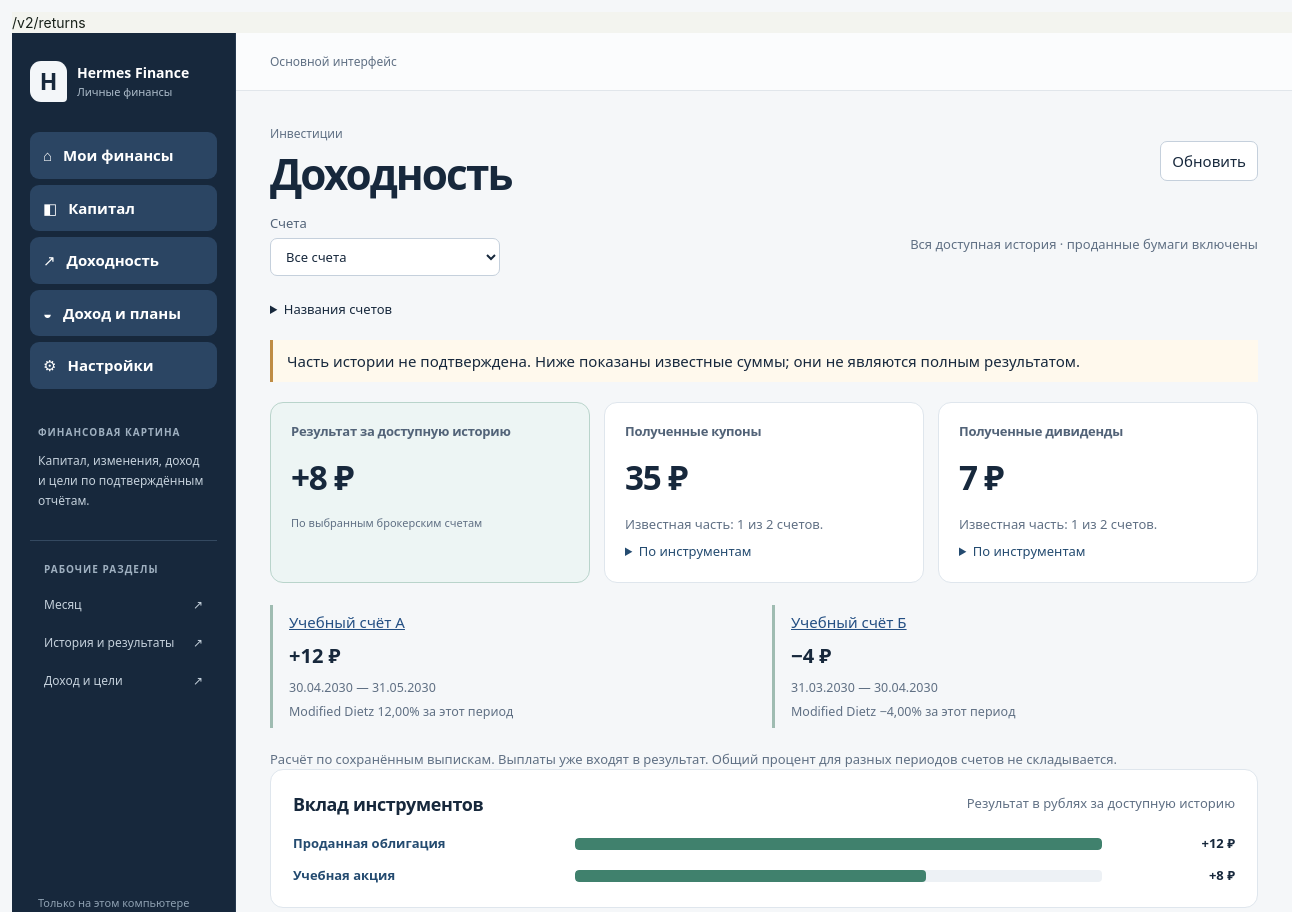
it: paid income loads on disclosure, filters selected accounts and retains repeated legitimate occurrences
expect the element "Полученные купоны" shows "35 ₽": met, box top-left (625, 454), bottom-right (687, 500)
Click the heading "По инструментам" below "35 ₽": (695, 551) top-left (639, 542), bottom-right (752, 560)
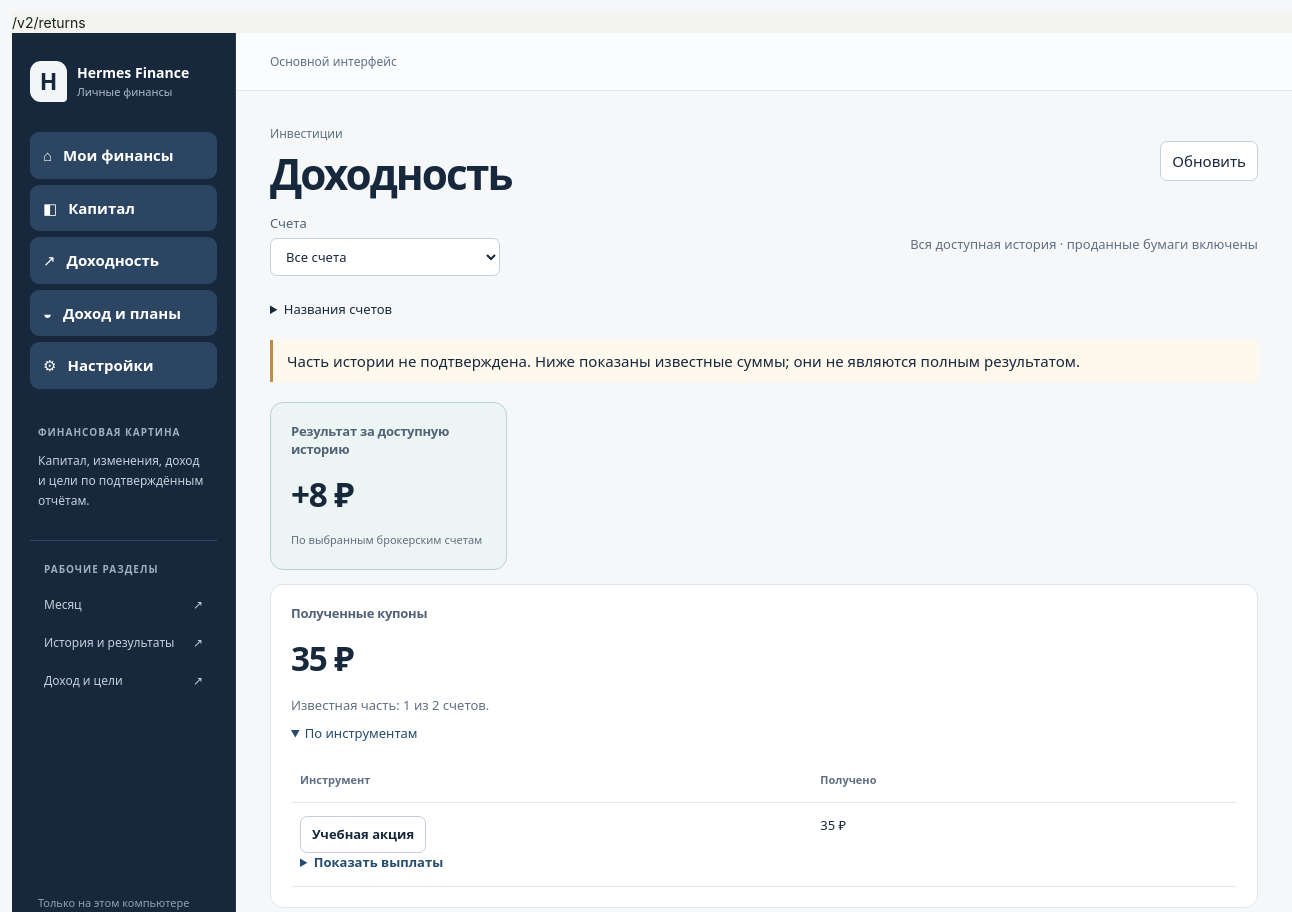
expect the table is shown: met, box top-left (291, 759), bottom-right (1237, 887)
